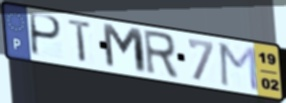7: (186, 36, 217, 84)
M: (100, 22, 150, 77), (218, 41, 260, 93)
P: (30, 11, 64, 59)
R: (141, 28, 181, 82)
T: (67, 17, 95, 65)
